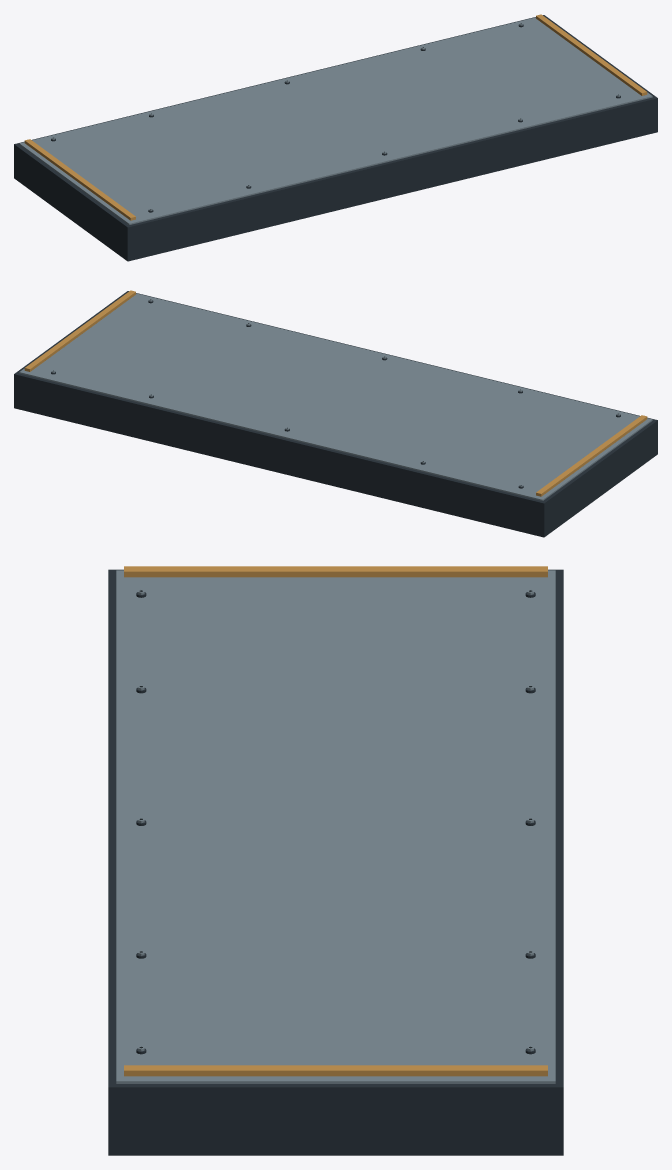
The model's file is SM_Lab_StairLanding.fbx.
3 views of the same model, one above another, from view 1: azimuth 30°, elevation 25°; view 2: azimuth 150°, elevation 25°; view 3: azimuth 270°, elevation 25° (orthographic). The views are drawn at different scales.
Visible parts, largest first — view 1: SM_Lab_StairLanding; view 2: SM_Lab_StairLanding; view 3: SM_Lab_StairLanding.
Boxes of the visible parts, <box> form: SM_Lab_StairLanding: <box>14,14,657,261</box>; SM_Lab_StairLanding: <box>14,290,657,537</box>; SM_Lab_StairLanding: <box>108,566,563,1155</box>.
Bounding box in the file's own units: 390 × 145 × 27.5.
